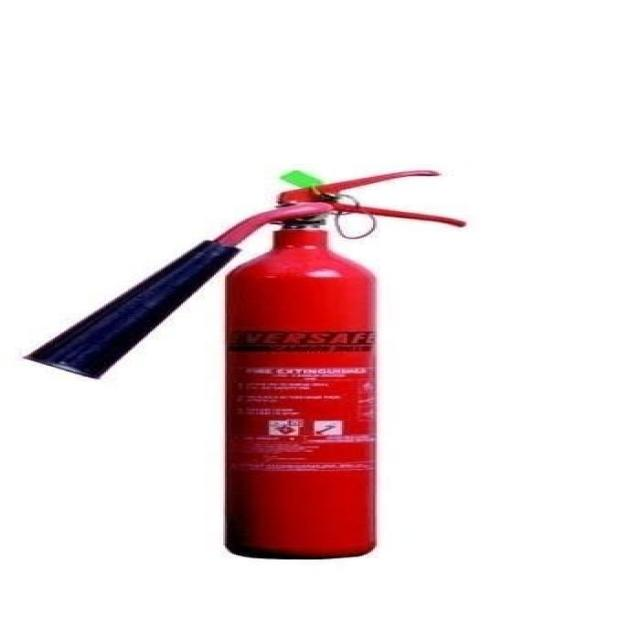fire_extinguisher: (12, 164, 474, 563)
